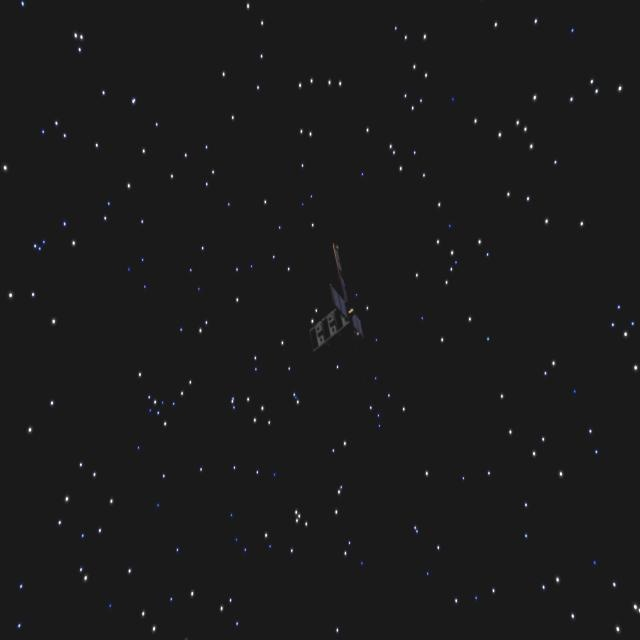medium_debris: (304, 251, 384, 359)
